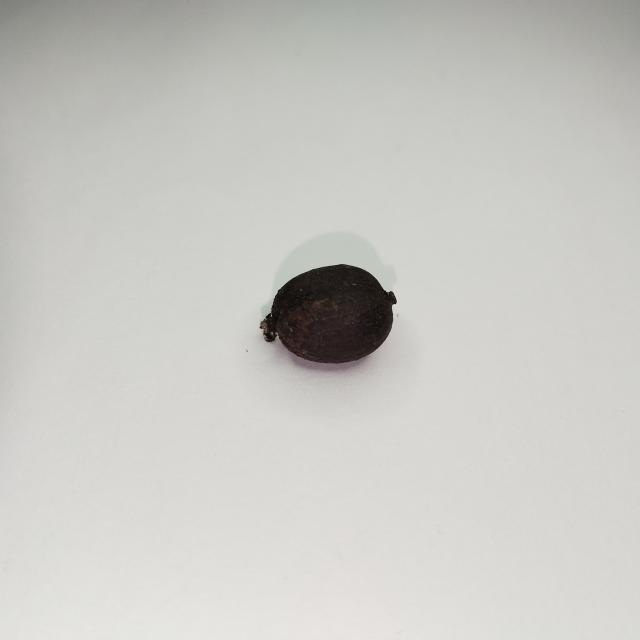Danado: (260, 264, 397, 361)
